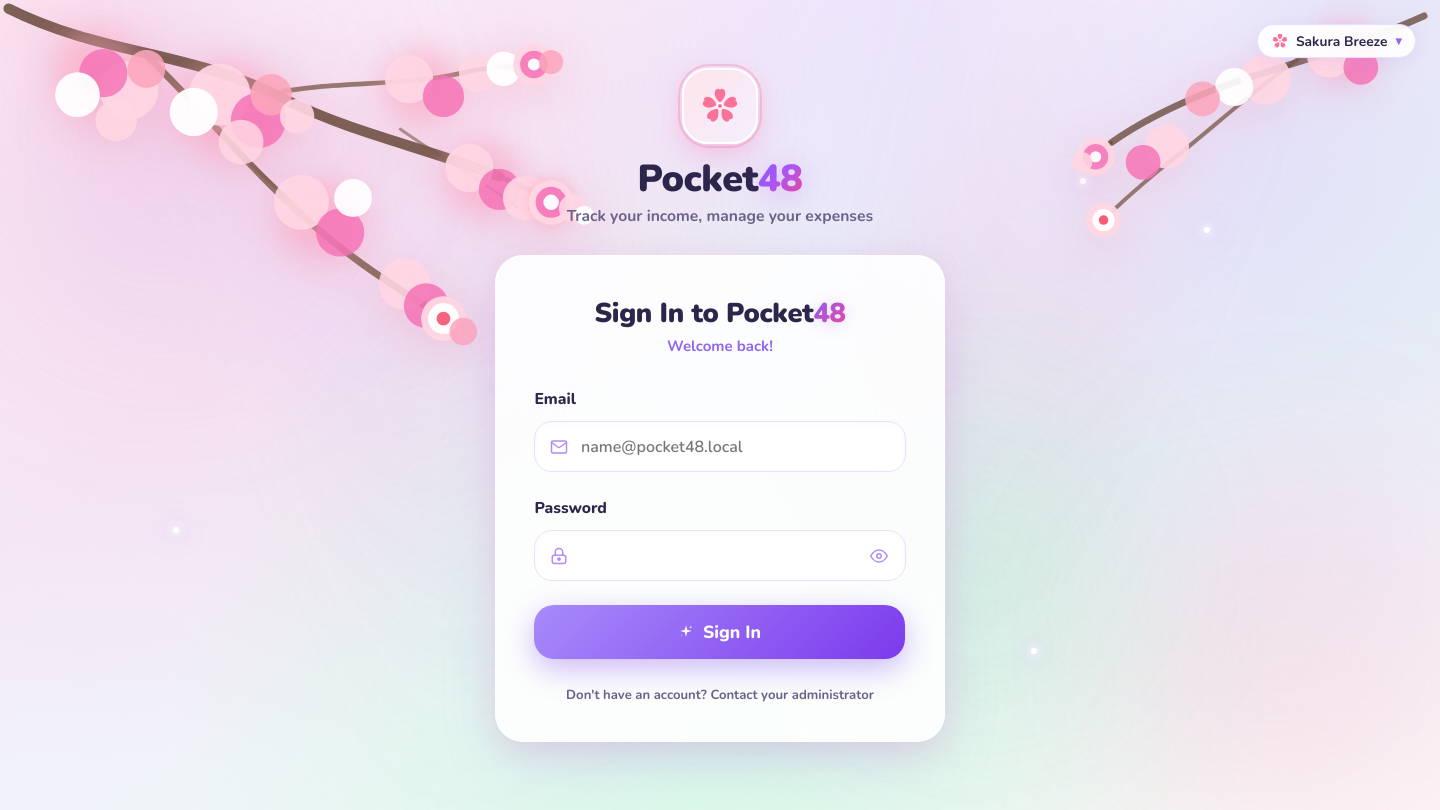
Test: Issue #9: Client login, app shell, and role-aware navigation › logs in as USER, loads current user from /api/auth/me with credentials, and navigates to /transactions
Type "user1@pocket48.local" into the field labelled "Email" at x=720, y=447, box [534,421,906,472]
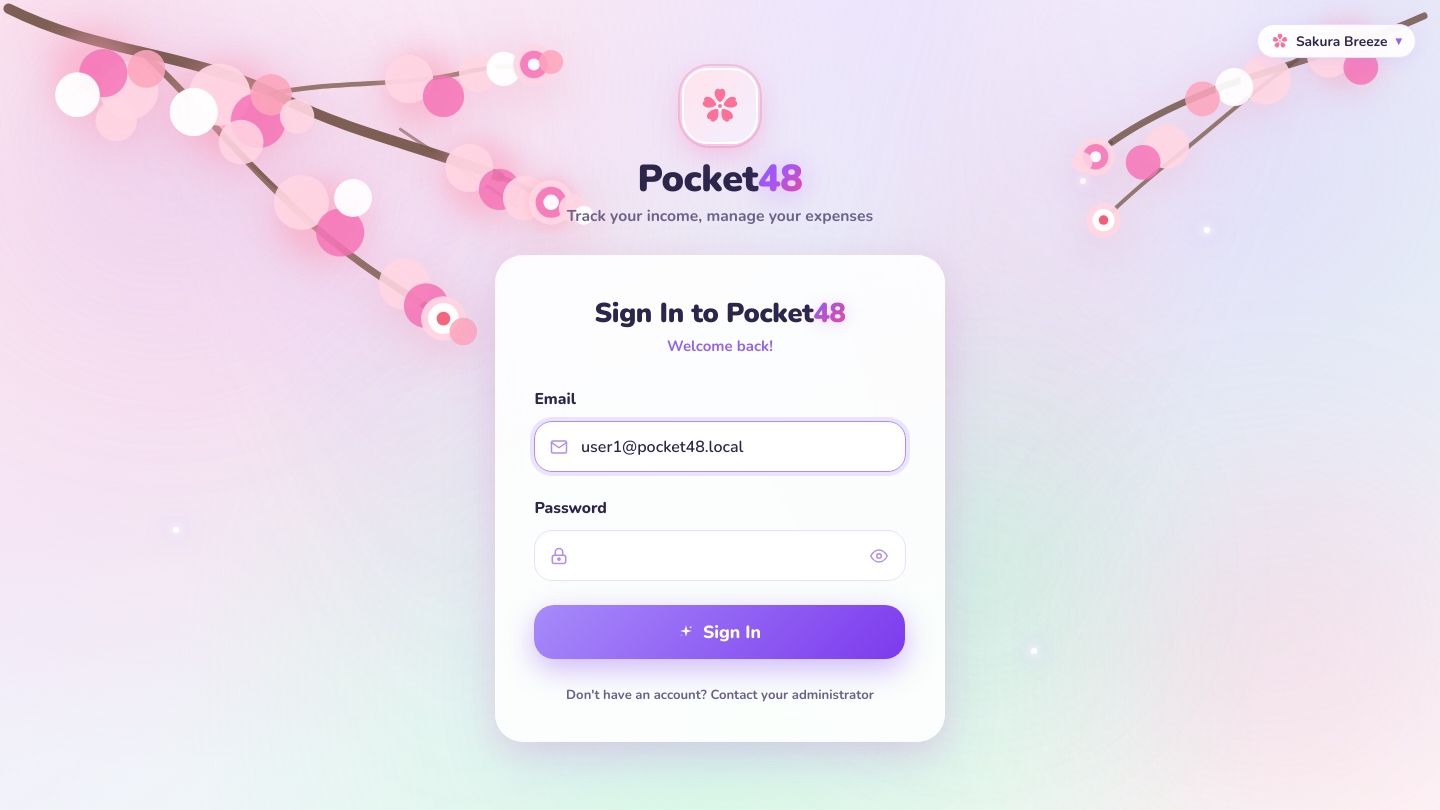
Type "CorrectHorseBatteryStaple" into the password field labelled "Password" at x=720, y=556, box [534,530,906,581]
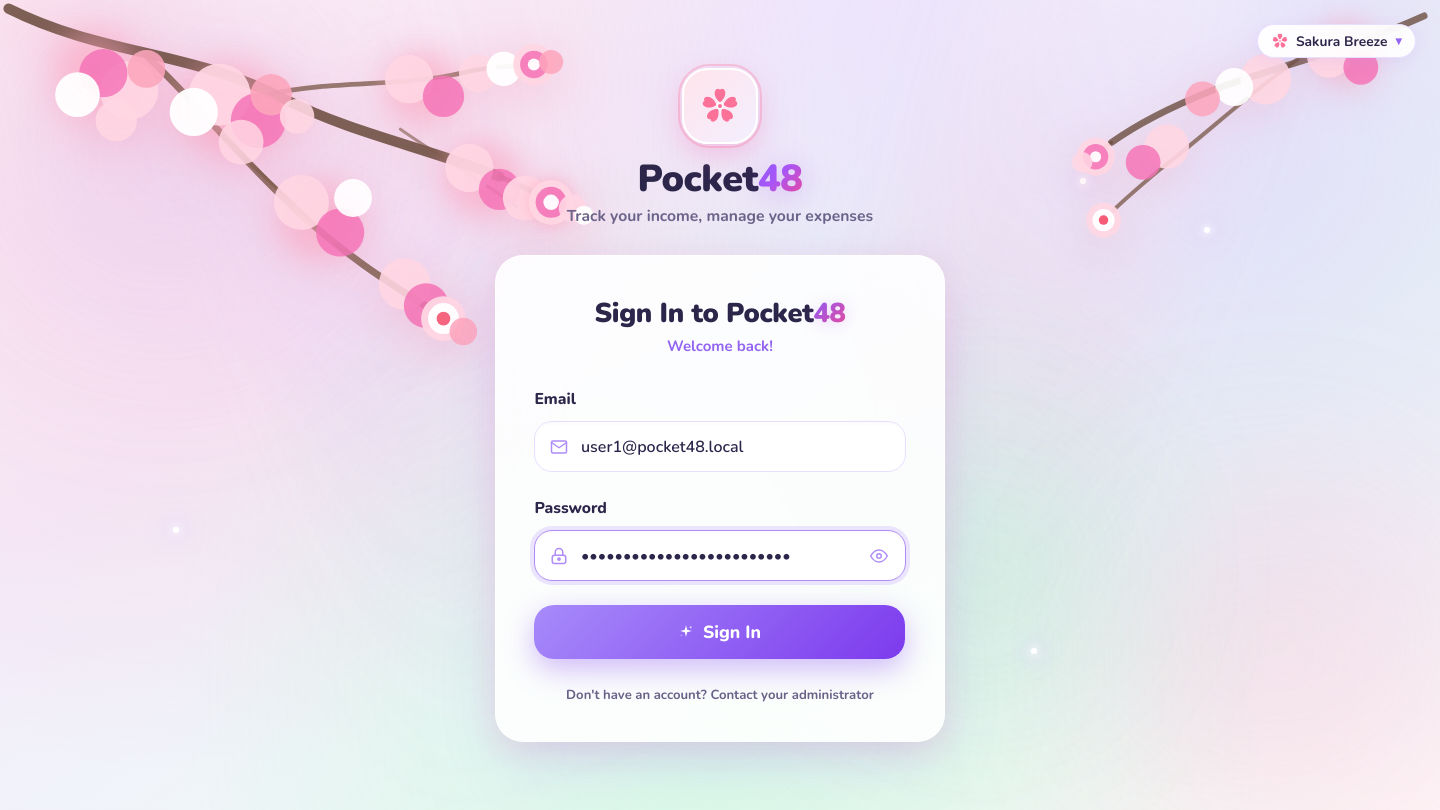
Click the button "Sign In" at x=720, y=632, box [534,605,906,660]
(page scrolled)
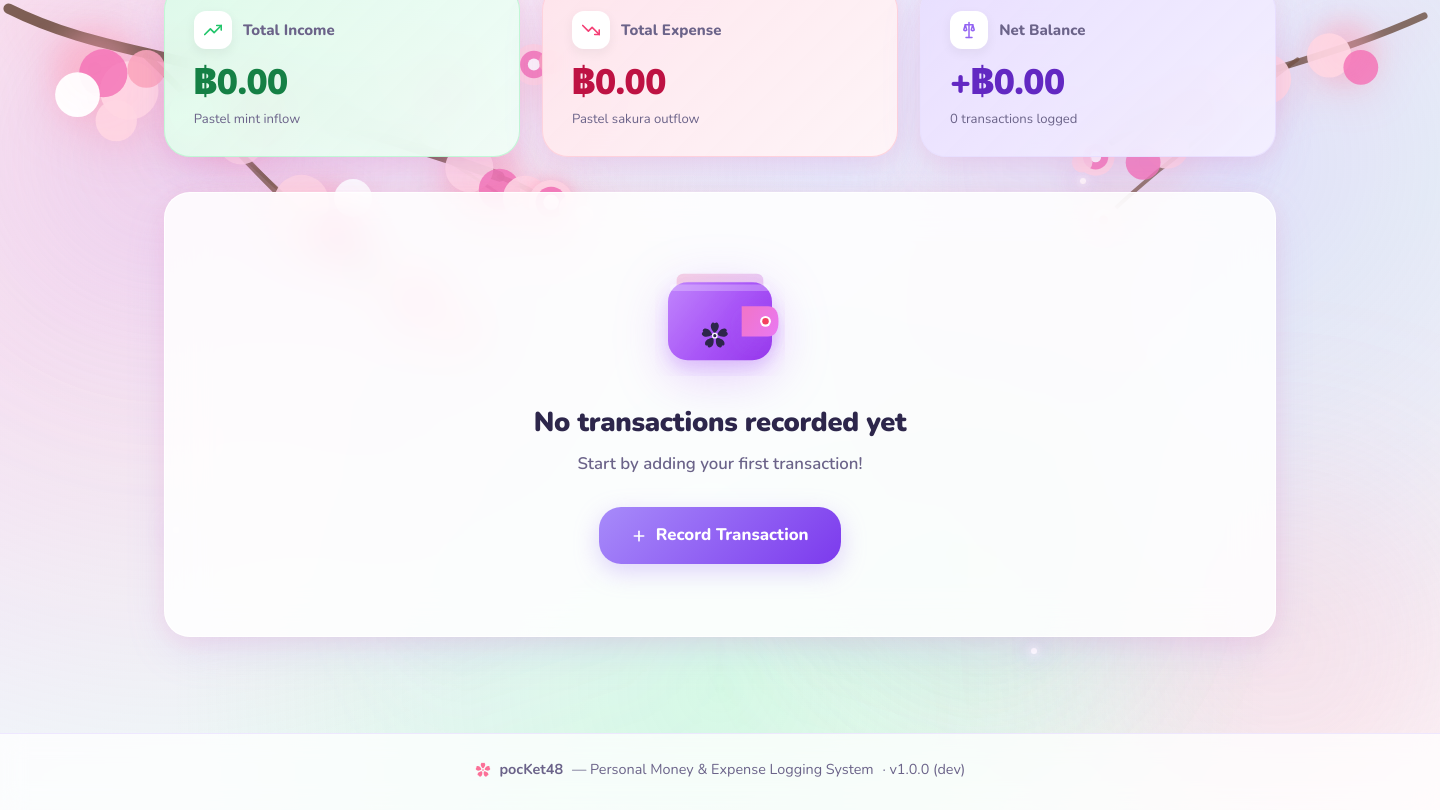
expect the text with test id "release-commit" shows "v1.0.0": met, box [882,759,937,779]
